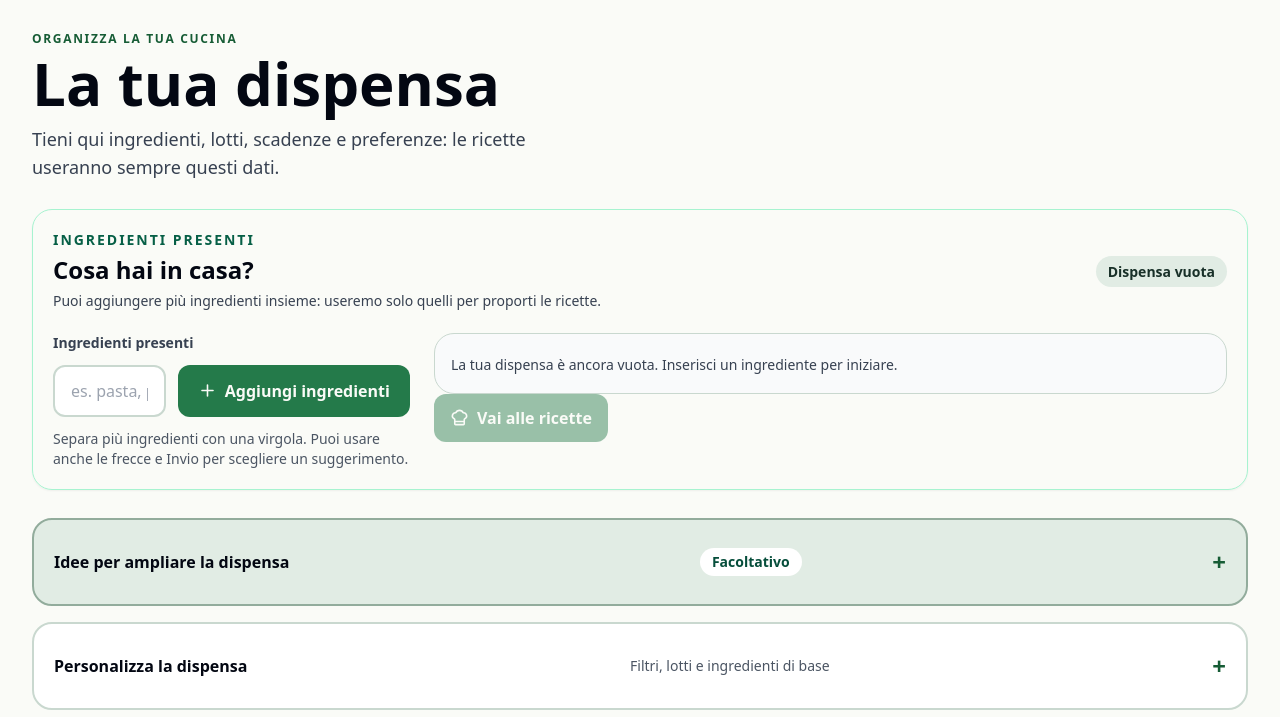
Test case: PantryPage › keeps expansion ideas and pantry configuration in progressive disclosure
Click the text "Idee per ampliare la dispensa" at (172, 562), box [54, 550, 289, 574]
(page scrolled)
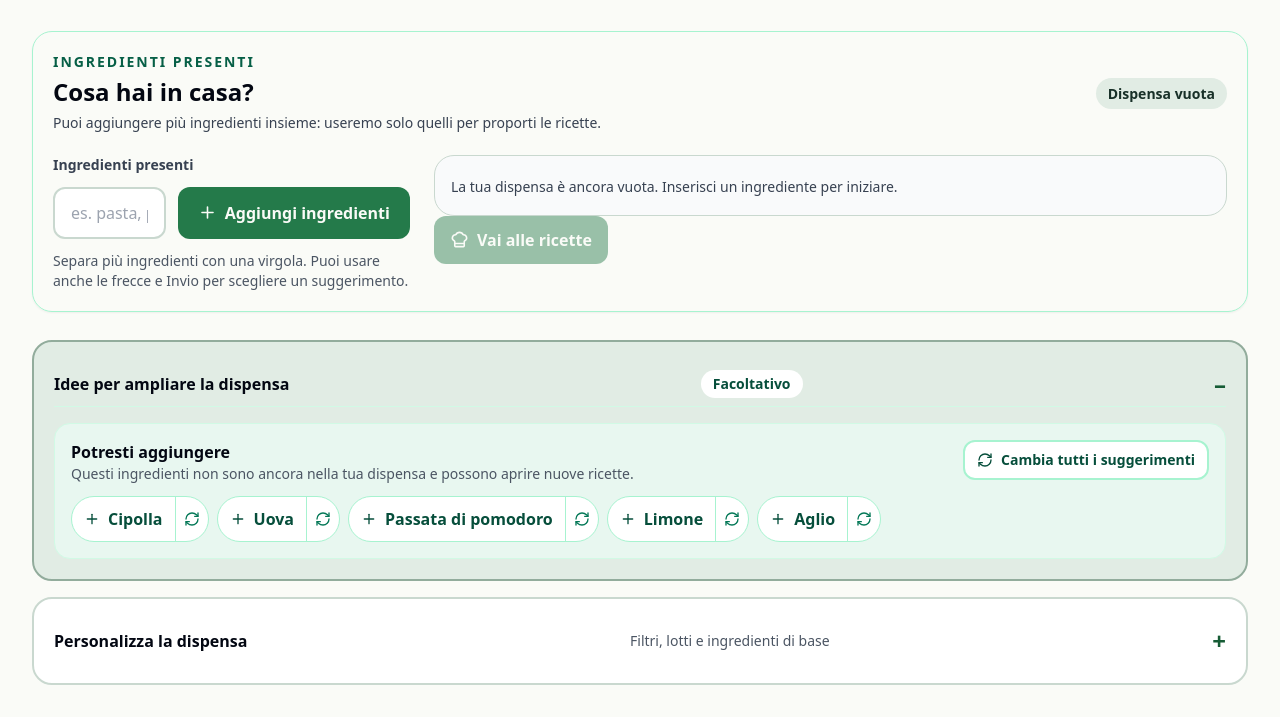
Check: the element "Potresti aggiungere" is shown, box [54, 423, 1226, 559]
Click the text "Personalizza la dispensa" at (151, 641), box [54, 629, 247, 653]
(page scrolled)
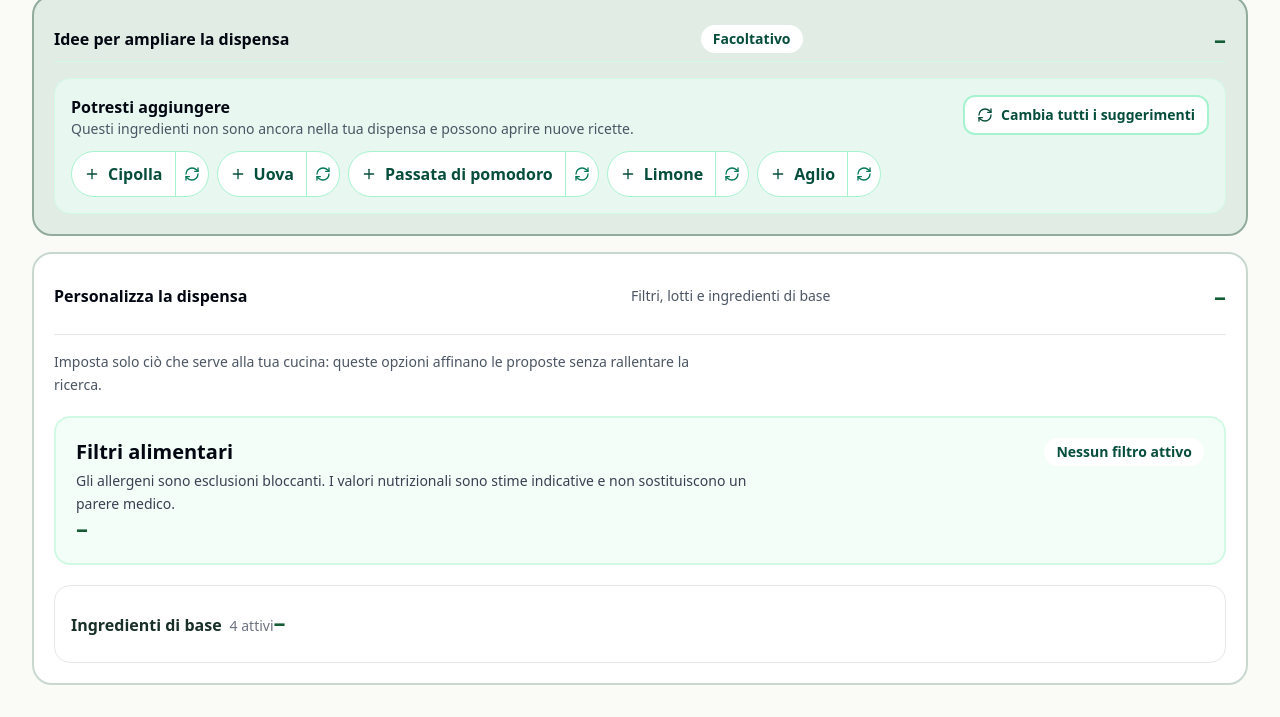
Check: the heading "Filtri alimentari" is shown, box [76, 438, 233, 465]
Check: the heading "Ingredienti di base4 attivi" is shown, box [71, 614, 274, 636]
